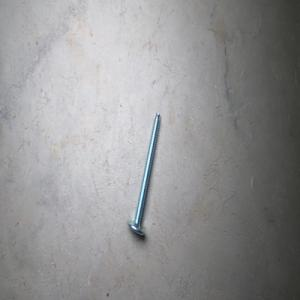Bolt: (126, 111, 160, 236)
